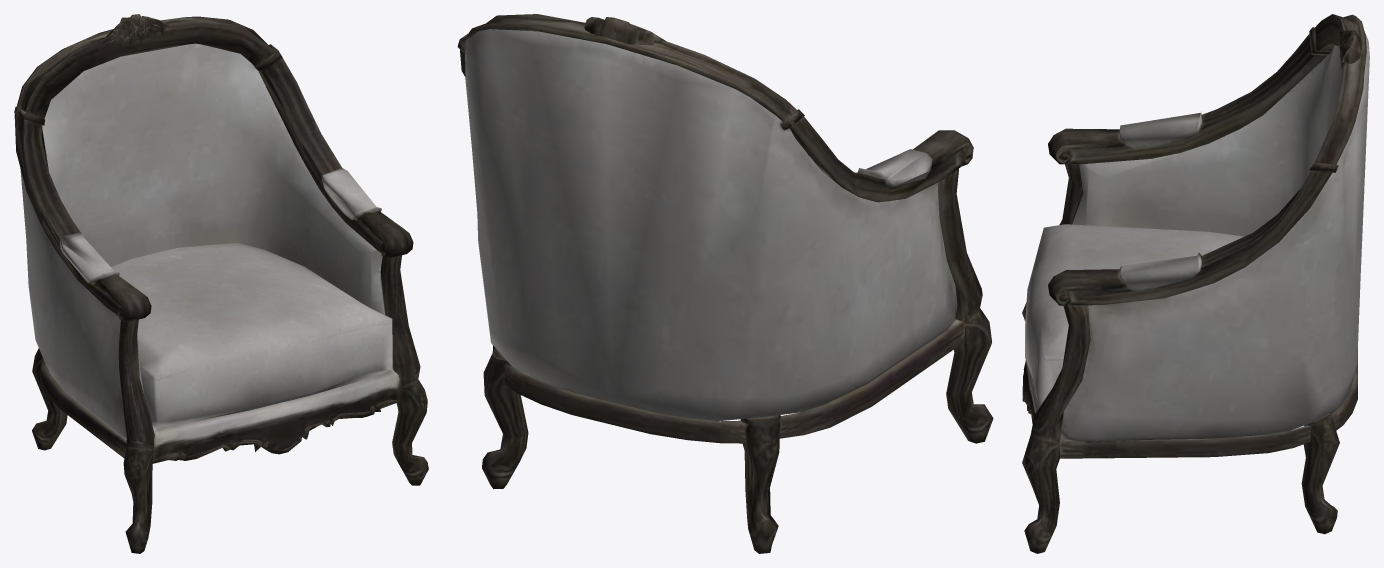
Rendered from ArmChair_01.d9ae57d7.glb.
3 views of the same model, side by side, from view 1: azimuth 30°, elevation 25°; view 2: azimuth 150°, elevation 25°; view 3: azimuth 270°, elevation 25° (orthographic). The views are drawn at different scales.
Visible parts, largest first — view 1: ArmChair_01; view 2: ArmChair_01; view 3: ArmChair_01.
Part boxes in pixels (x1,y1,x2,y2): ArmChair_01: (14, 14, 428, 553); ArmChair_01: (457, 14, 993, 553); ArmChair_01: (1022, 14, 1369, 553).
Size of the model in its own units: 0.8483 by 1.06 by 0.7618.
Materials: 1 (1 with a texture image).
